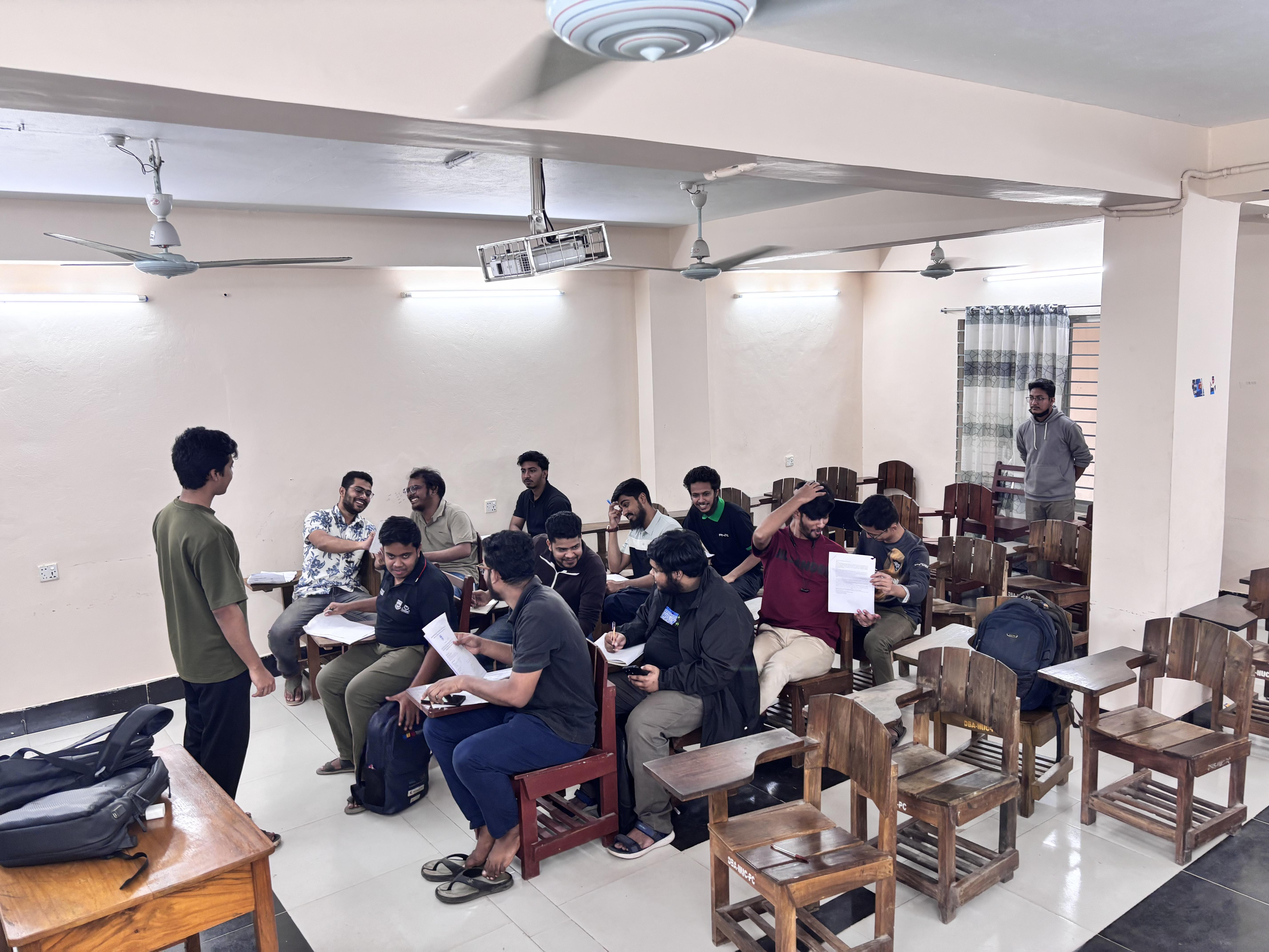hidden_communication: (753, 476, 934, 717), (267, 464, 397, 690)
invigilator: (148, 417, 289, 824), (1014, 374, 1095, 528)
no_cheating: (602, 479, 684, 594), (499, 447, 579, 528)
side_talking: (529, 499, 615, 638)
suspicious_moving: (305, 516, 454, 791), (389, 460, 489, 596), (673, 460, 762, 579)
using_phone: (412, 528, 604, 907), (594, 524, 760, 878)
